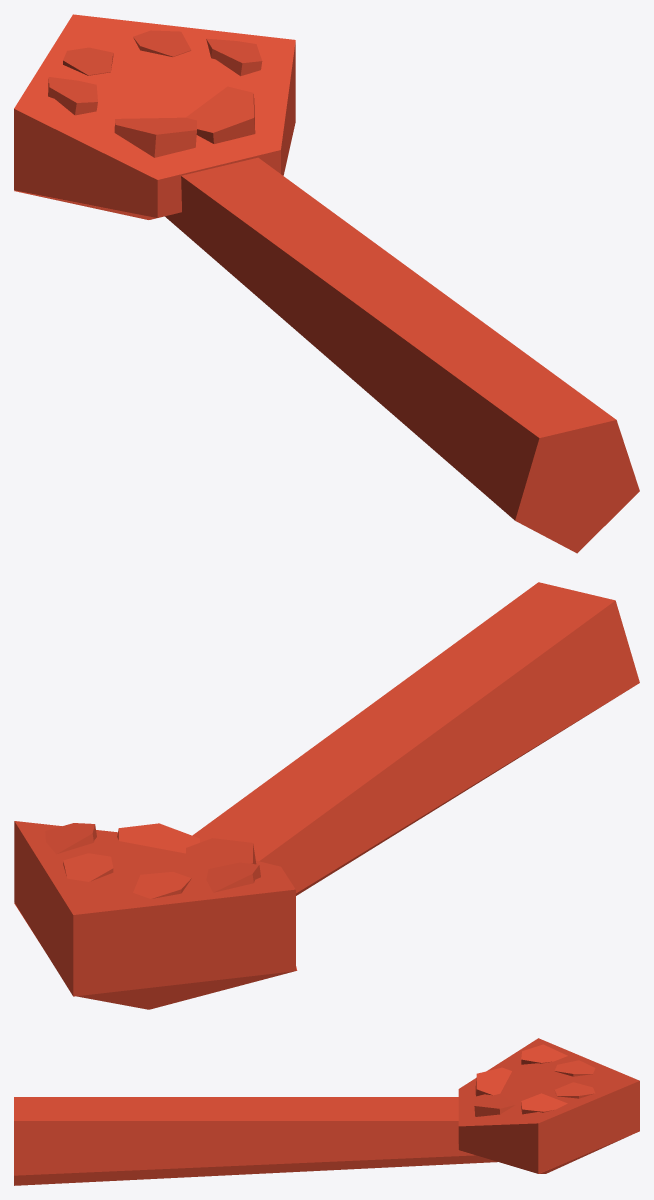
Rendered from paw_1.fbx.
The picture shows the model from 3 angles, top to bottom: view 1: azimuth 30°, elevation 25°; view 2: azimuth 150°, elevation 25°; view 3: azimuth 270°, elevation 25°; orthographic projection. The views are drawn at different scales.
Visible parts, largest first — view 1: Cone; view 2: Cone; view 3: Cone.
Part boxes in pixels (x1,y1,x2,y2): Cone: [14, 14, 639, 553]; Cone: [14, 582, 639, 1009]; Cone: [14, 1038, 639, 1185].
Size of the model in its own units: 138 by 83.21 by 426.
